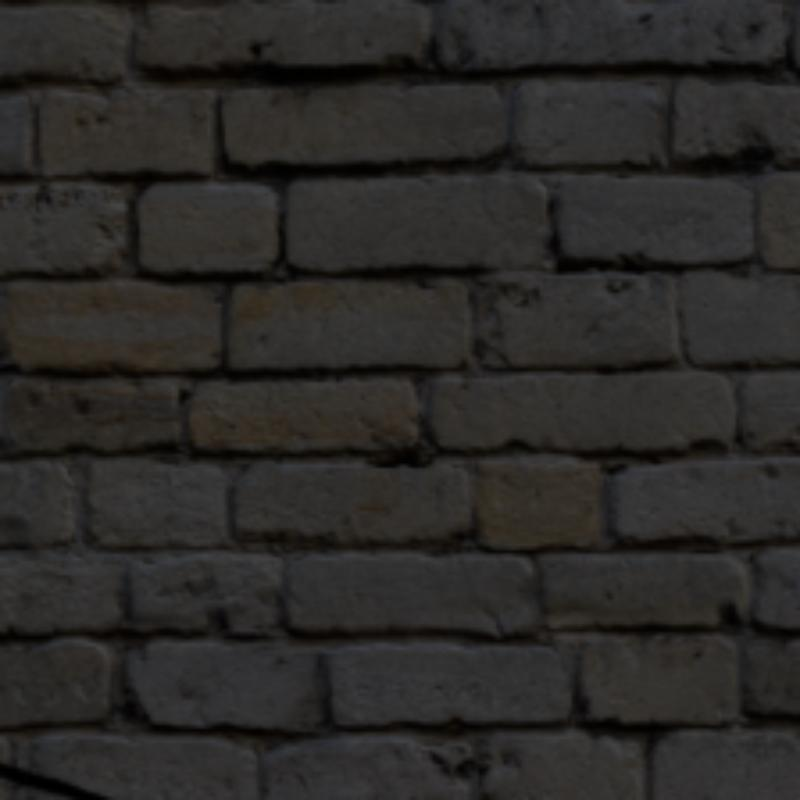pothole: (0, 764, 104, 796)
